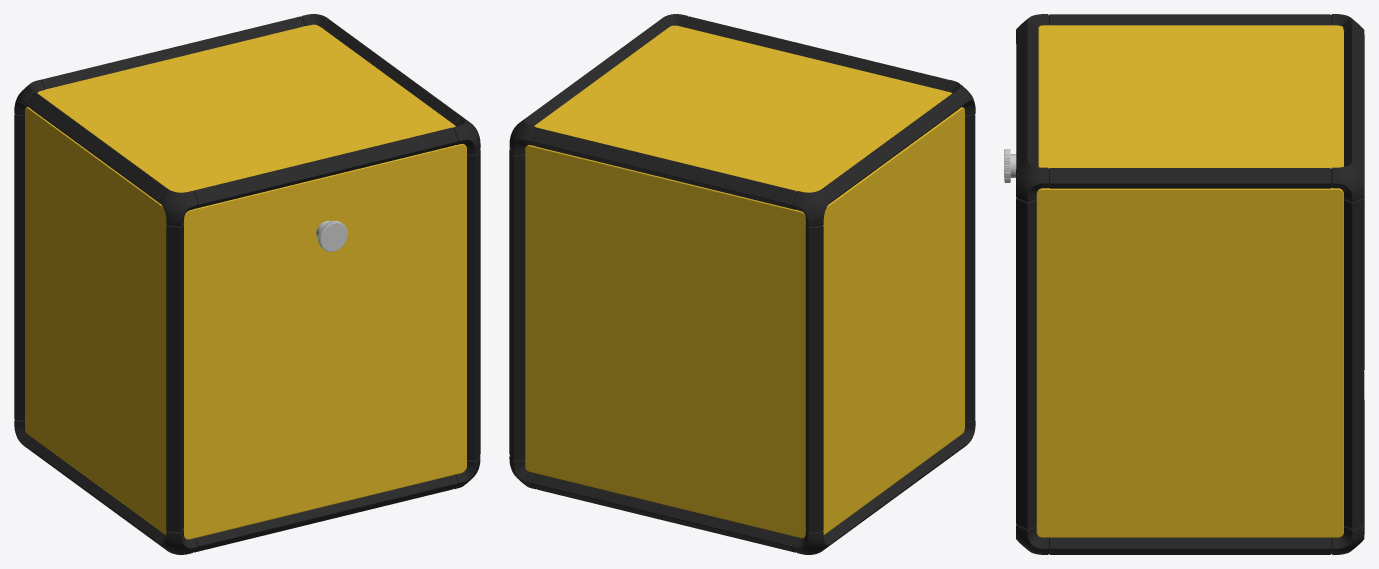
3 views of the same model, side by side, from view 1: azimuth 30°, elevation 25°; view 2: azimuth 150°, elevation 25°; view 3: azimuth 270°, elevation 25° (orthographic). The views are drawn at different scales.
Visible parts, largest first — view 1: 374x329x420; view 2: 374x329x420; view 3: 374x329x420.
Boxes of the visible parts, x1,y1,x2,y2 form: 374x329x420: (14,14,480,554); 374x329x420: (509,14,975,554); 374x329x420: (1004,14,1364,554).
Bounding box in the file's own units: 0.4517 × 0.4976 × 0.4196.
